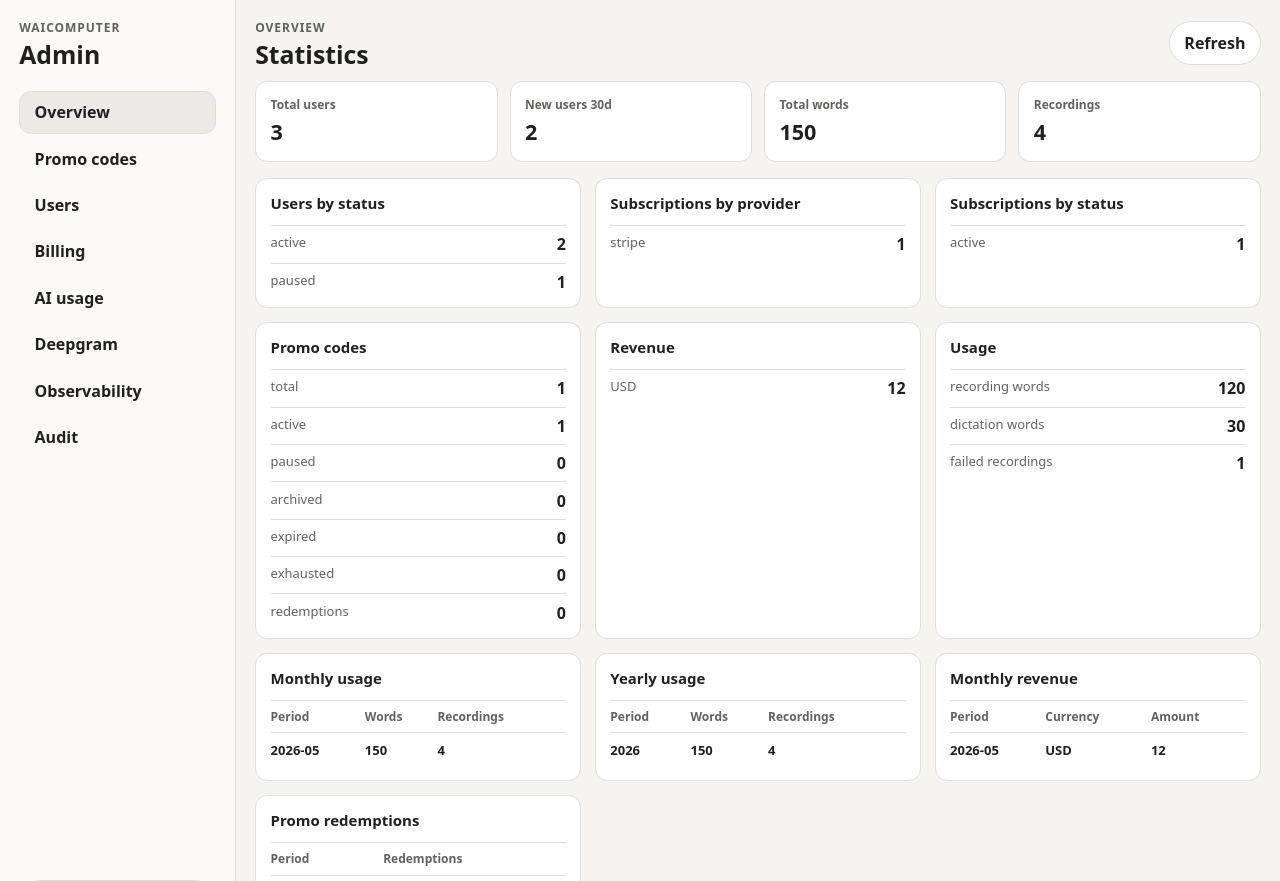
Test: AdminConsoleClient › shows observability signals in the admin console
The image size is (1280, 881).
Expected: the text "Total users" is shown, [271,96,336,114]
Click the button "Observability" at (118, 390), box [19,369,216,412]
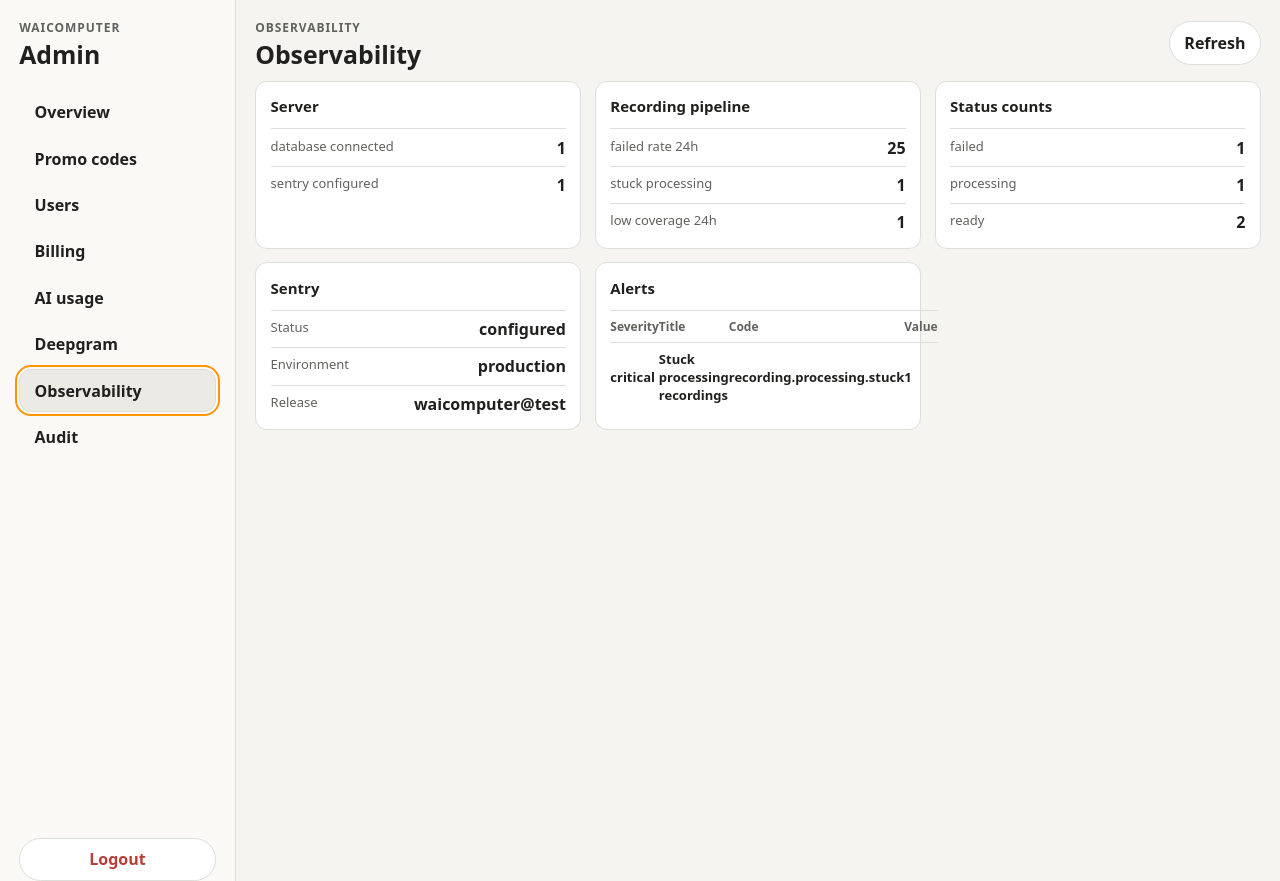
Expected: the heading "Sentry" is shown, [271,278,319,298]
Expected: the text "configured" is shown, [479,318,566,340]
Expected: the text "Stuck processing recordings" is shown, [659,343,729,412]
